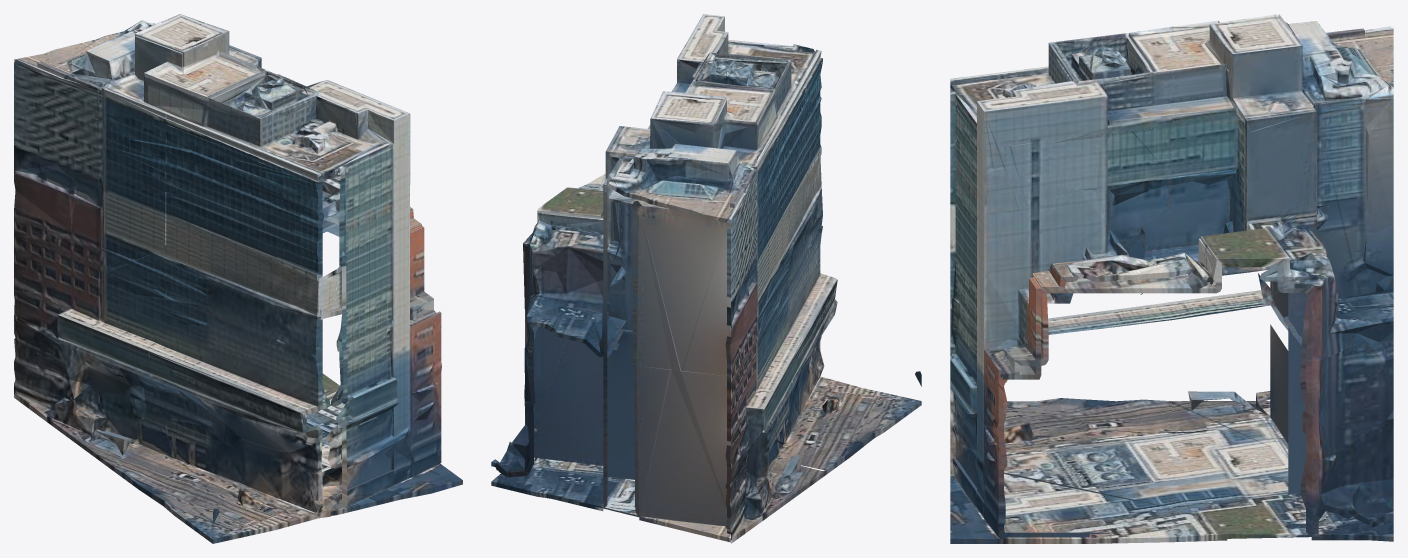
Rendered from chunk_4_7.glb.
The picture shows the model from 3 angles, left to right: view 1: azimuth 30°, elevation 25°; view 2: azimuth 150°, elevation 25°; view 3: azimuth 270°, elevation 25°; orthographic projection. The views are drawn at different scales.
Parts seen in each view (by area): view 1: hero-chunk; view 2: hero-chunk; view 3: hero-chunk.
Part boxes in pixels (x1,y1,x2,y2): hero-chunk: (14,14,462,543); hero-chunk: (491,14,921,543); hero-chunk: (950,14,1393,543).
Size of the model in its own units: 55.43 by 82.26 by 76.33.
Materials: 5 (5 with a texture image).
